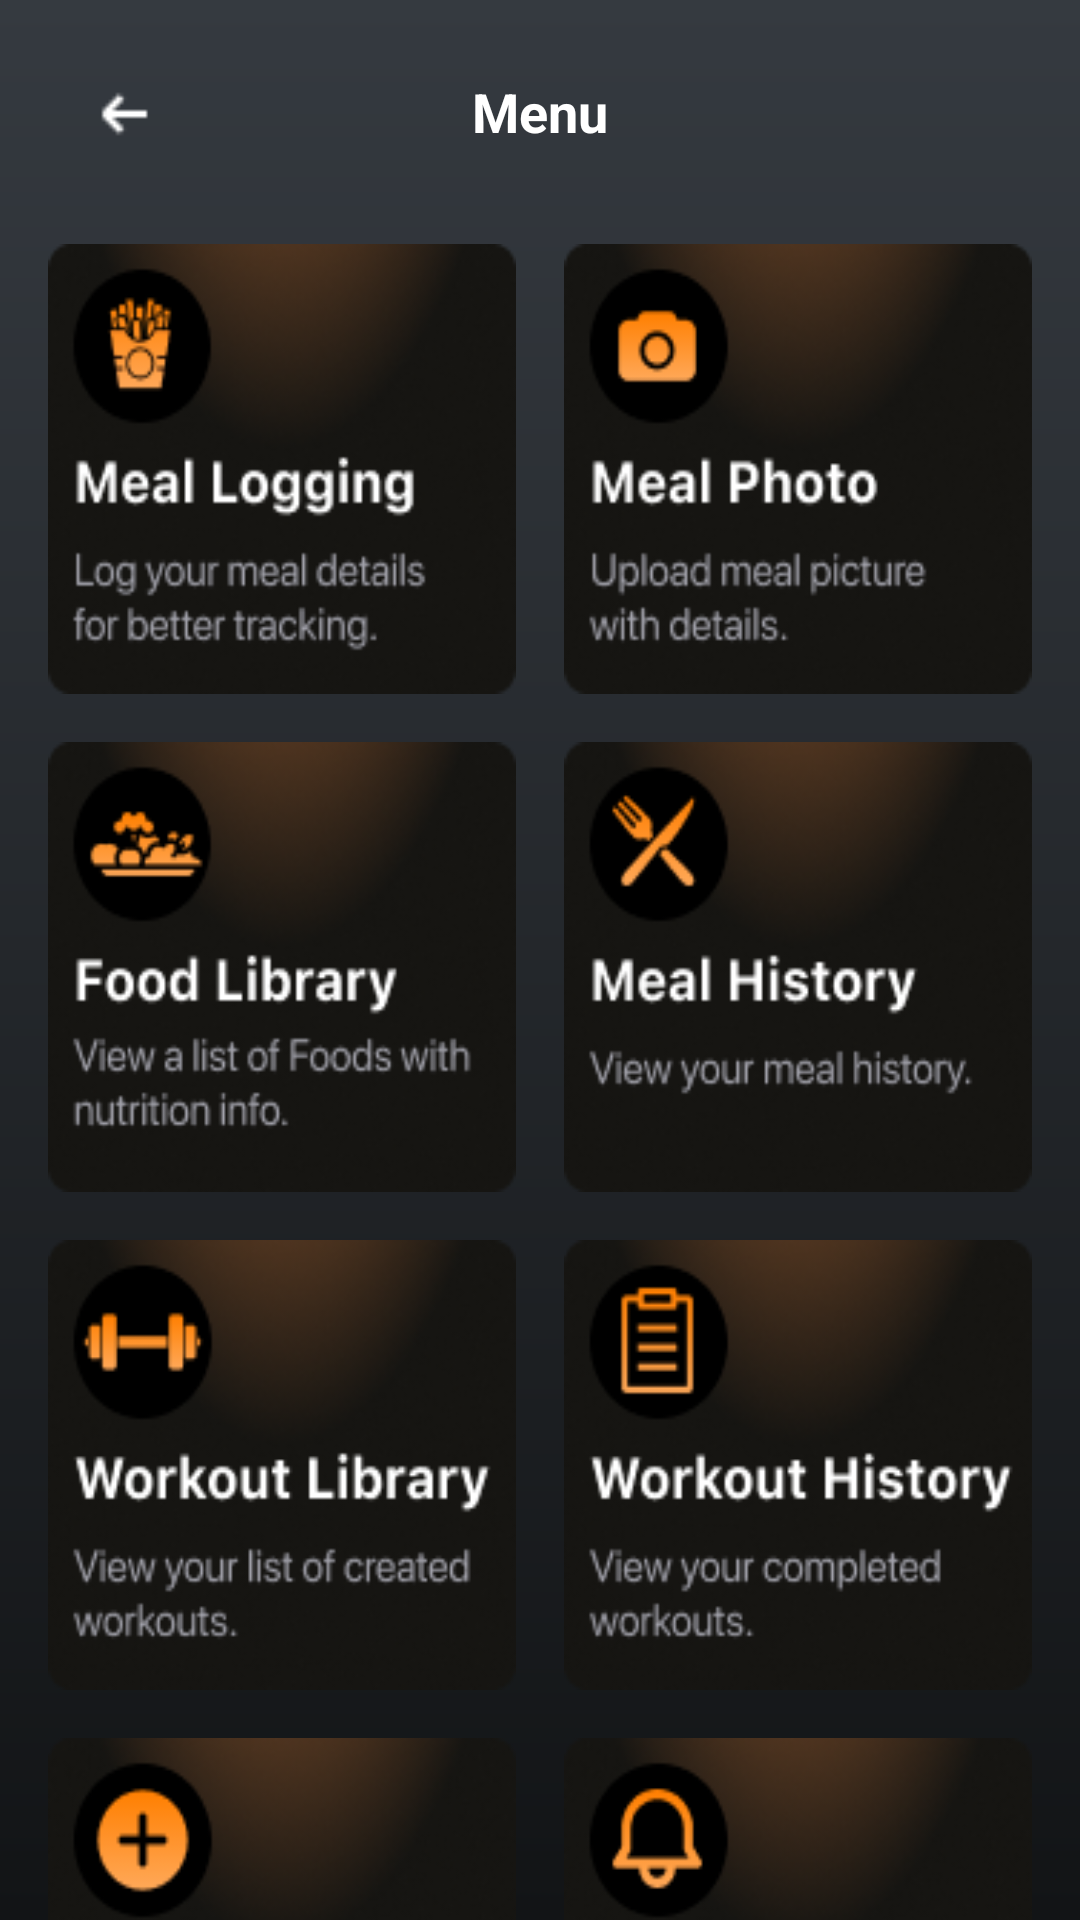

Icon bounding boxes for this 1080x1920 phone screenshot, format (x1, y1, x2, y2):
Back: (101, 93, 148, 135)
